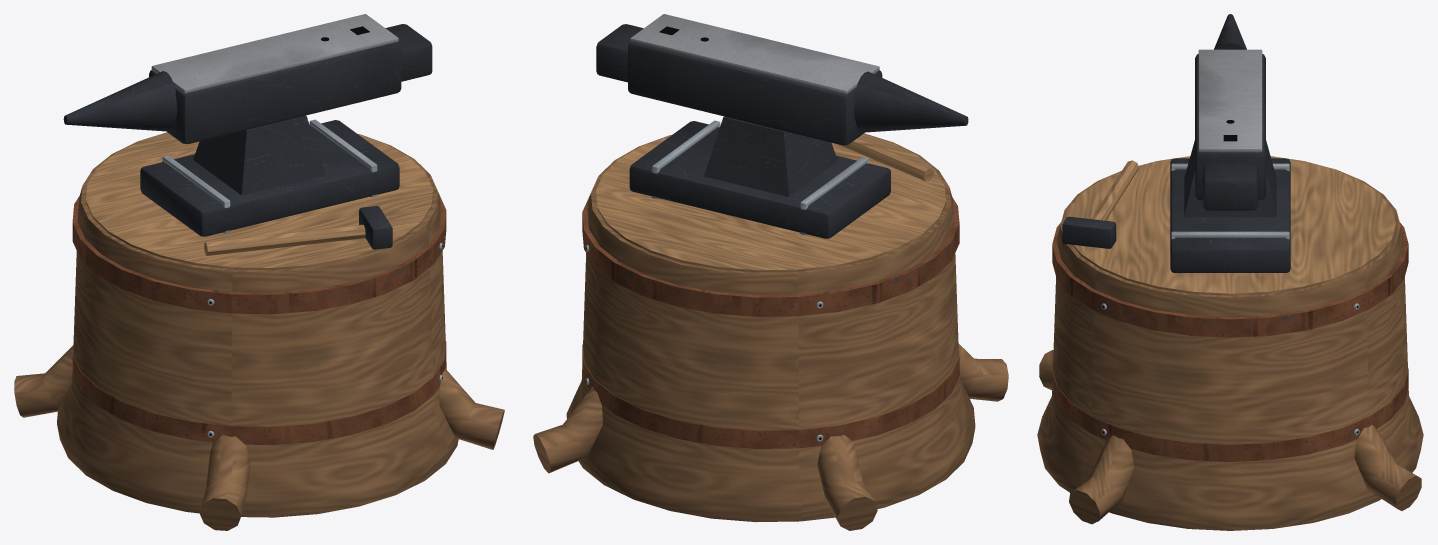
Rendered from anvil.glb.
3 views of the same model, side by side, from view 1: azimuth 30°, elevation 25°; view 2: azimuth 150°, elevation 25°; view 3: azimuth 270°, elevation 25° (orthographic). The views are drawn at different scales.
Parts seen in each view (by area): view 1: Body; view 2: Body; view 3: Body.
Boxes of the visible parts, x1=… form: Body: x1=14, y1=14, x2=504, y2=530; Body: x1=533, y1=14, x2=1008, y2=530; Body: x1=1037, y1=14, x2=1423, y2=530.
Size of the model in its own units: 0.7044 by 0.6977 by 0.67.
Materials: 7 (6 with a texture image).
